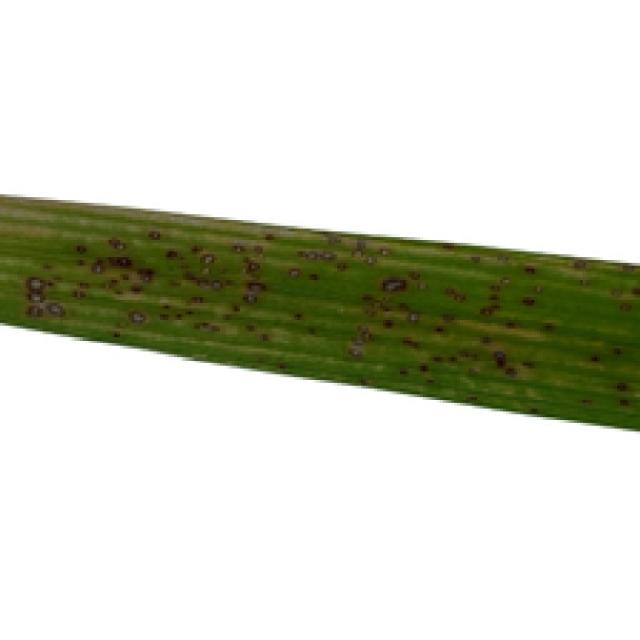Rice___Brown_Spot: (0, 192, 637, 435)
